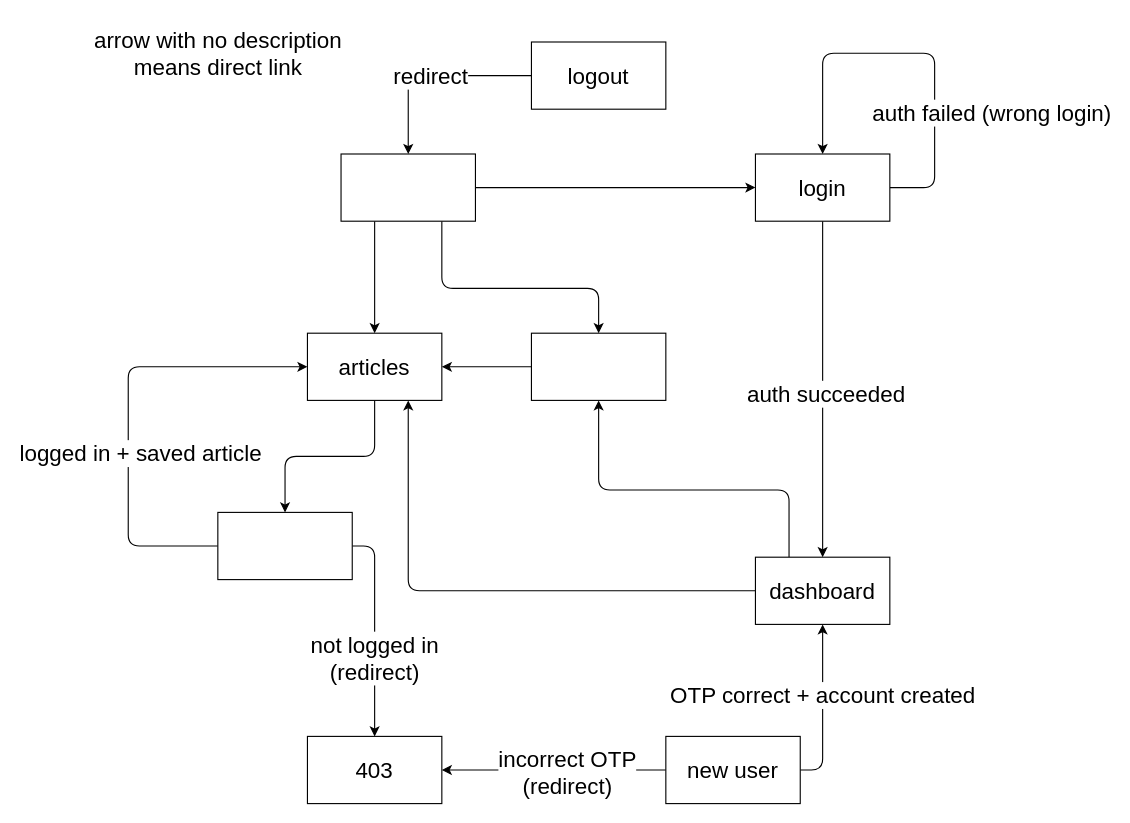
The diagram is 1130 pixels wide and 823 high, and some of its shapes have lost their labels. The shapes that lost their labels are listed below. From the top down, each one's box as (x1, y1, x2, y2) in pixels, then its label:
(340, 153, 475, 221): index
(530, 332, 666, 400): section
(217, 511, 352, 580): edit
